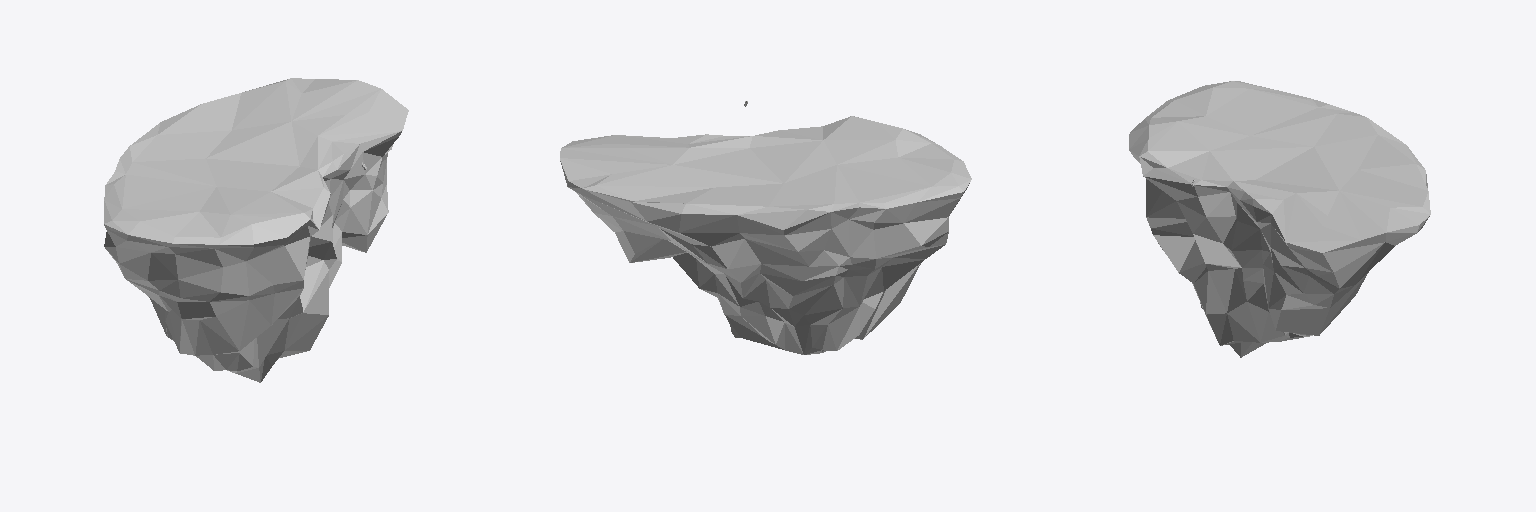
Rendered from rightear.obj.
3 renders of one model, left to right at view 1: azimuth 30°, elevation 25°; view 2: azimuth 150°, elevation 25°; view 3: azimuth 270°, elevation 25°, orthographic.
Visible parts, largest first — view 1: Island.003_Plane.009; view 2: Island.003_Plane.009; view 3: Island.003_Plane.009.
Part boxes in pixels (x1,y1,x2,y2): Island.003_Plane.009: (104,78,408,382); Island.003_Plane.009: (560,116,971,354); Island.003_Plane.009: (1129,81,1430,357).
Size of the model in its own units: 38.79 by 23.21 by 29.1.